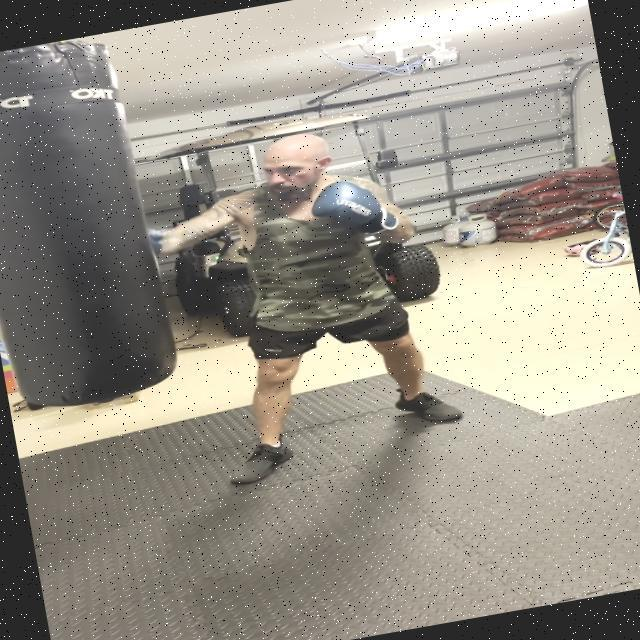jab: (117, 102, 422, 317)
